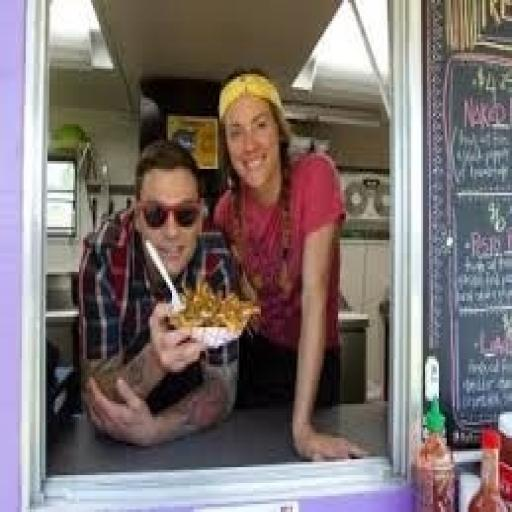eating: (73, 66, 370, 462), (73, 134, 247, 448)
